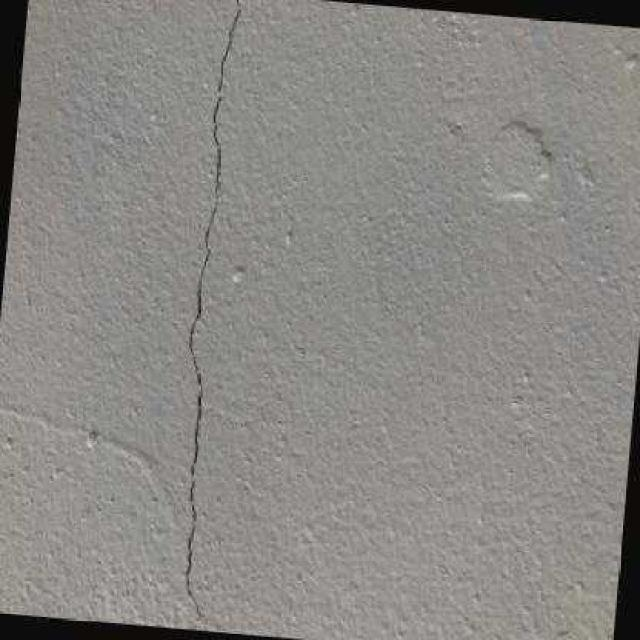D00: (185, 95, 220, 630), (217, 0, 239, 92)
